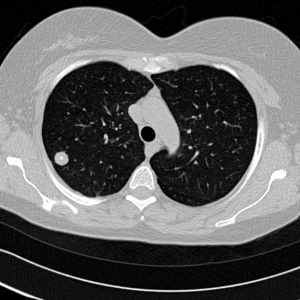nodule: (54, 151, 68, 165)
